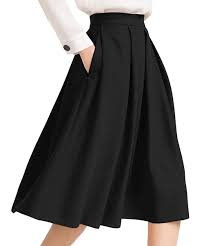S_skirt: (8, 10, 192, 233)
